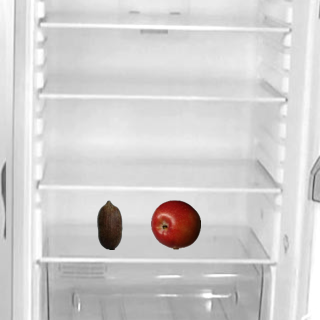Apple Braeburn: (150, 199, 200, 249)
Nut Pecan: (84, 199, 134, 249)
